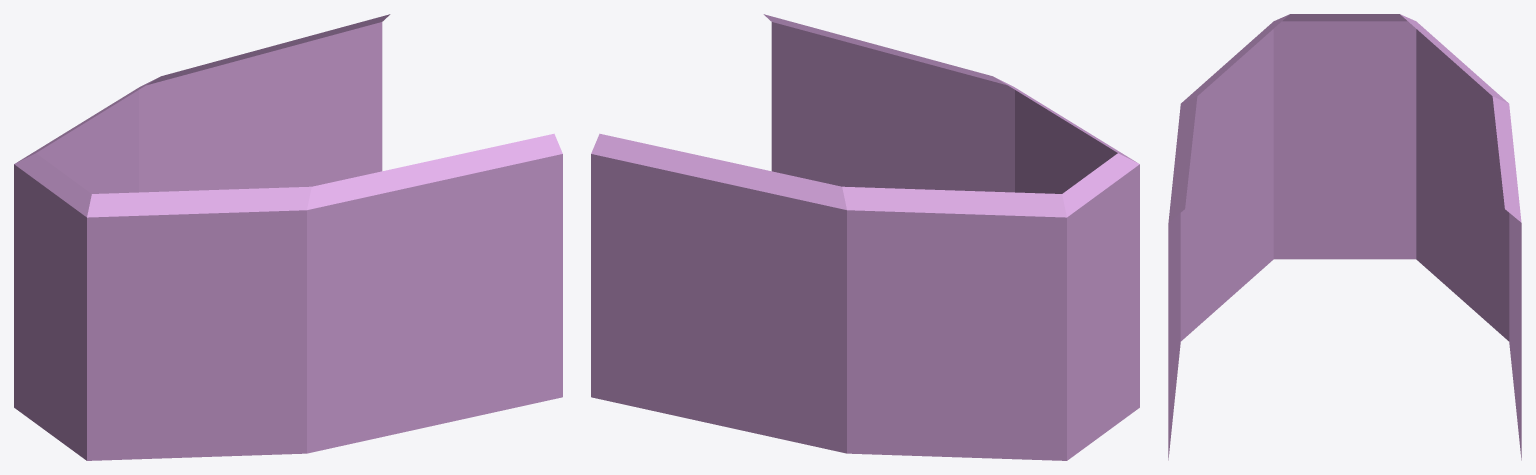
File: Museum_renfort_08.fbx
3 views of the same model, side by side, from view 1: azimuth 30°, elevation 25°; view 2: azimuth 150°, elevation 25°; view 3: azimuth 270°, elevation 25° (orthographic). The views are drawn at different scales.
Parts seen in each view (by area): view 1: Archi_Renforts.008; view 2: Archi_Renforts.008; view 3: Archi_Renforts.008.
Part boxes in pixels (bbox=[...]): Archi_Renforts.008: bbox=[14, 14, 562, 460]; Archi_Renforts.008: bbox=[591, 14, 1139, 460]; Archi_Renforts.008: bbox=[1168, 14, 1521, 460].
Size of the model in its own units: 125 by 72.59 by 92.2.
